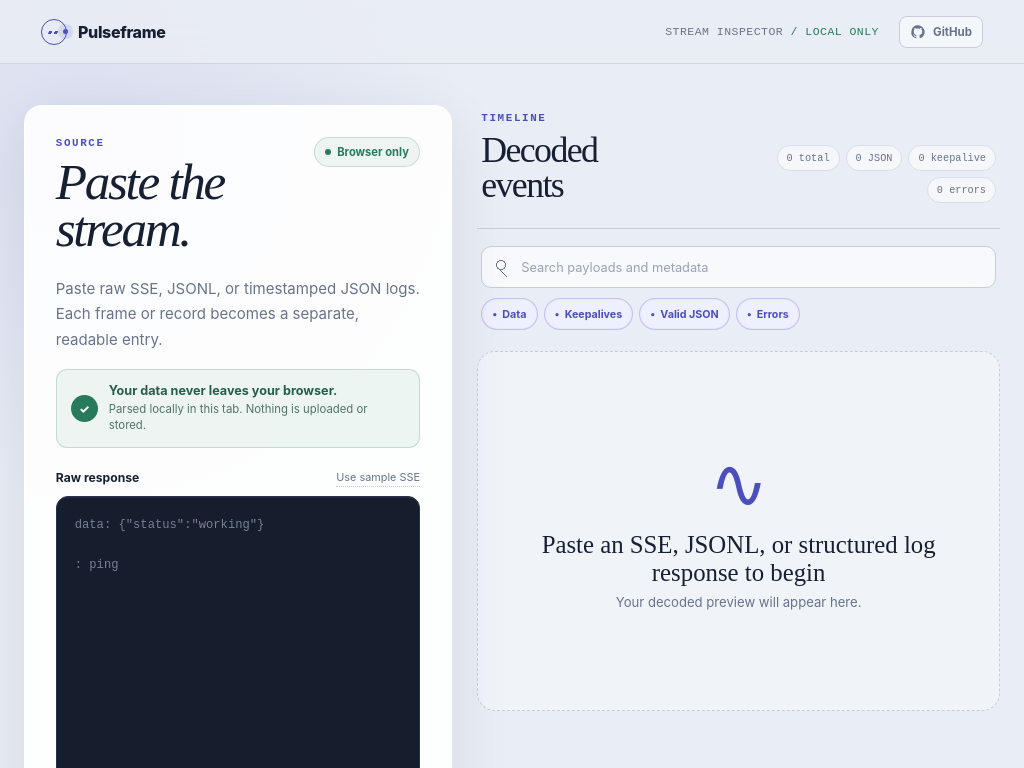
Test: App › filters keepalives independently
Click the button "Use sample SSE".
click(378, 477)  # box top-left (336, 468), bottom-right (420, 486)
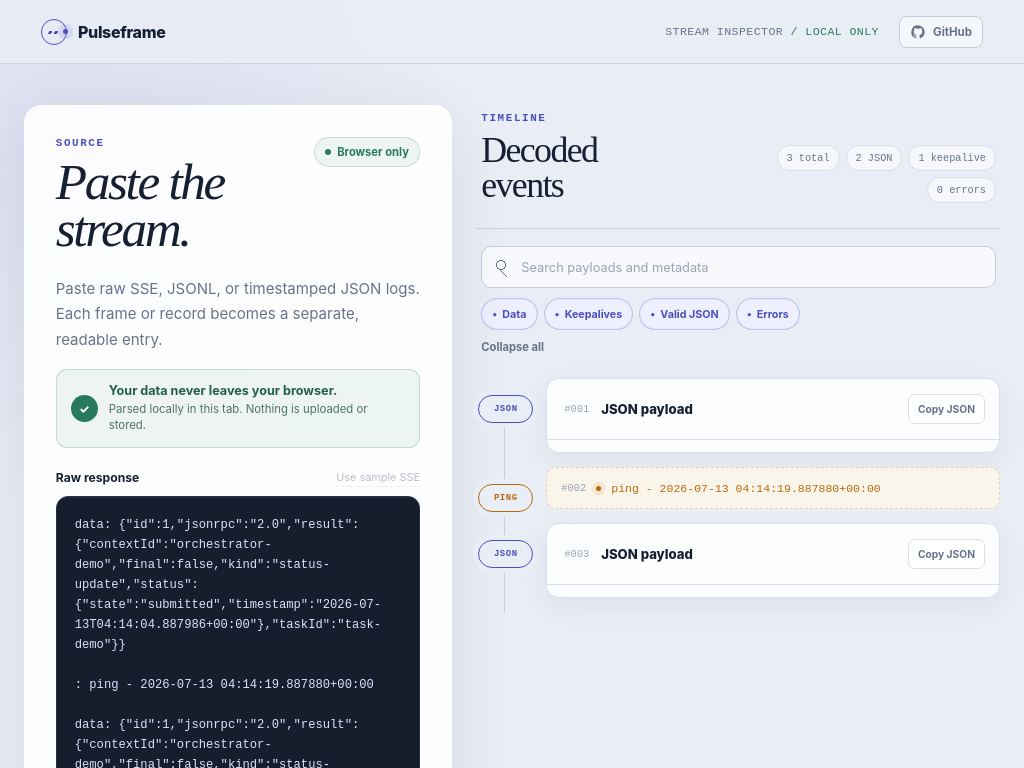
Click the button "Keepalives".
click(588, 314)  # box top-left (544, 298), bottom-right (633, 330)
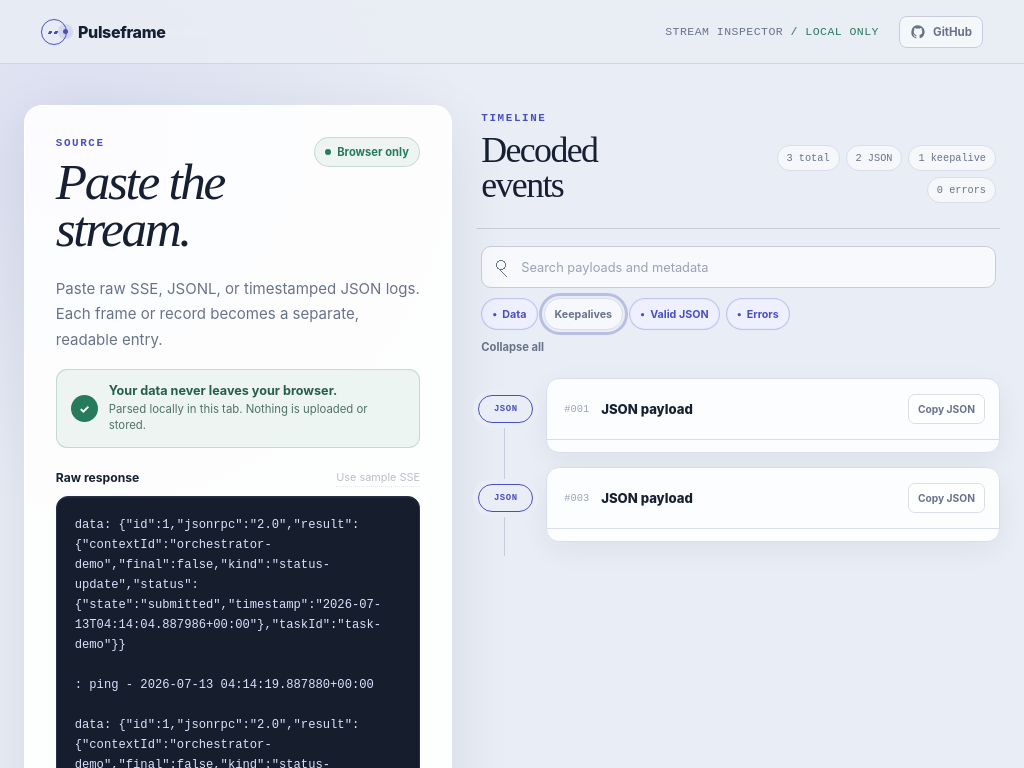
Now the text "ping -" is gone
